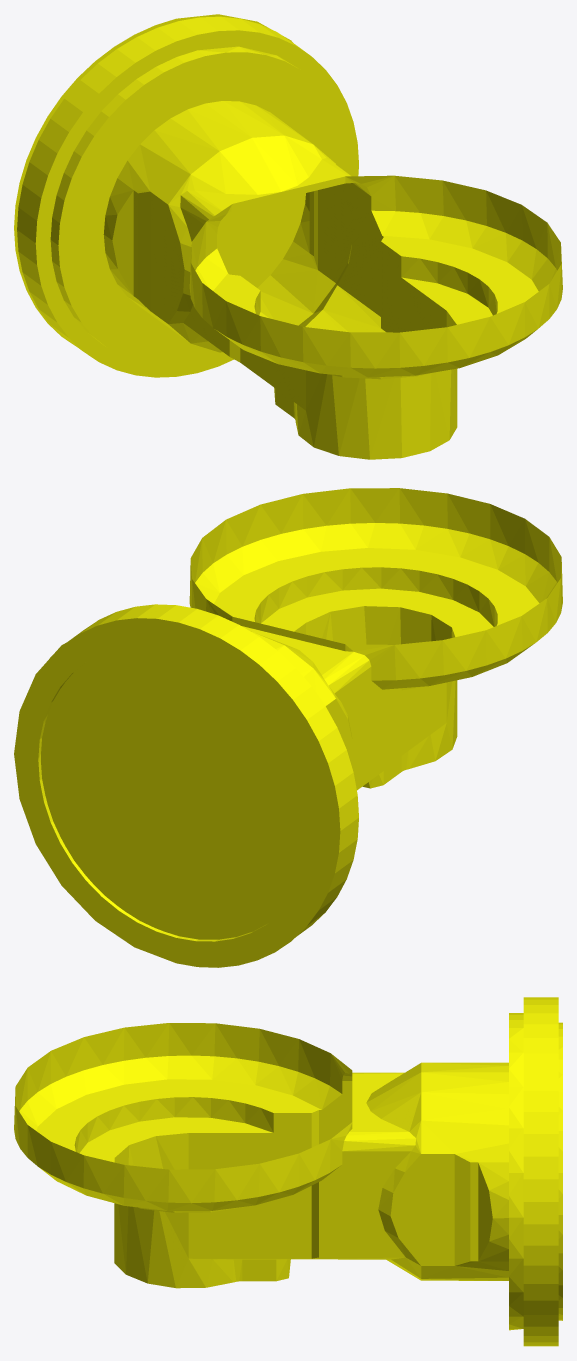
The picture shows the model from 3 angles, top to bottom: view 1: azimuth 30°, elevation 25°; view 2: azimuth 150°, elevation 25°; view 3: azimuth 270°, elevation 25°; orthographic projection. The views are drawn at different scales.
Parts seen in each view (by area): view 1: node; view 2: node; view 3: node.
Part boxes in pixels (x1,y1,x2,y2): node: (14, 14, 562, 459); node: (14, 488, 562, 967); node: (14, 997, 562, 1346).
Bounding box in the file's own units: 240 × 240 × 376.
